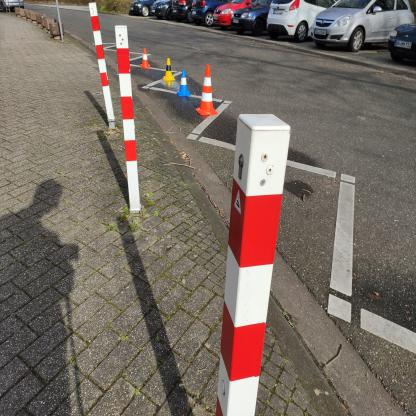Cones_big: (197, 62, 223, 123)
Cones_small_blue: (176, 68, 190, 98)
Cones_small_orange: (137, 44, 151, 72)
Cones_small_yellow: (160, 59, 175, 81)
